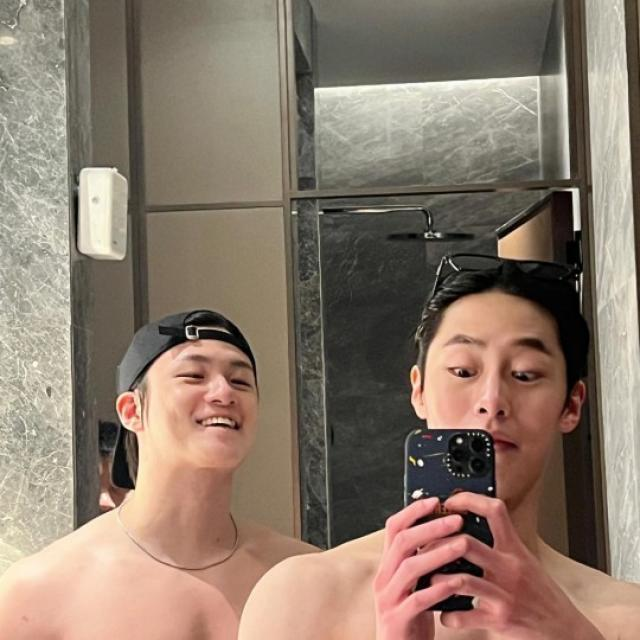phone: (402, 427, 498, 611)
